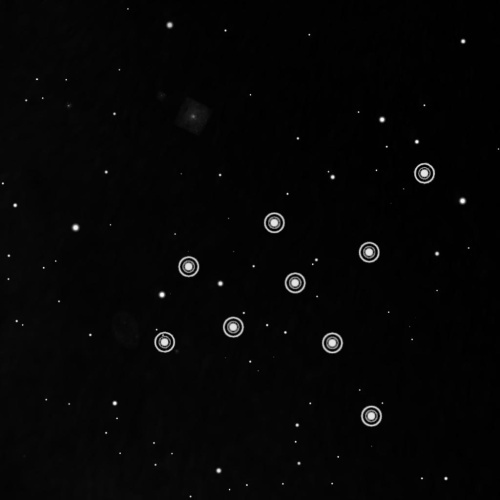cygnus: (151, 156, 440, 430)
